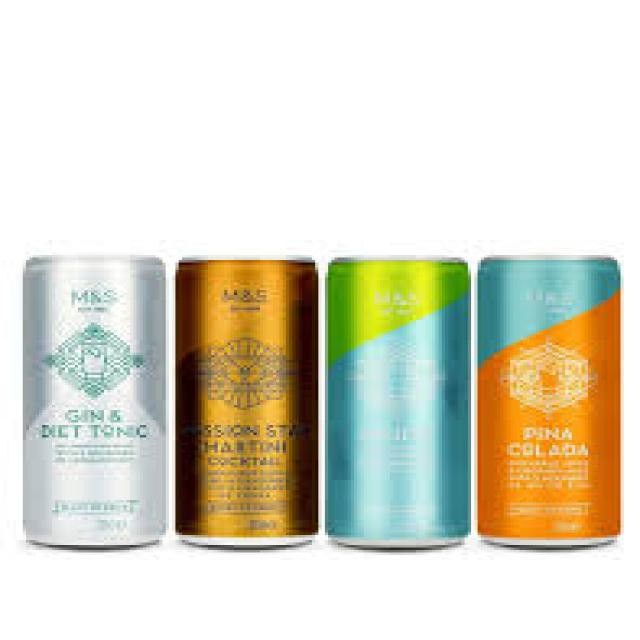Cans: (309, 248, 484, 552), (13, 250, 179, 552), (166, 250, 328, 555), (474, 245, 627, 555)
